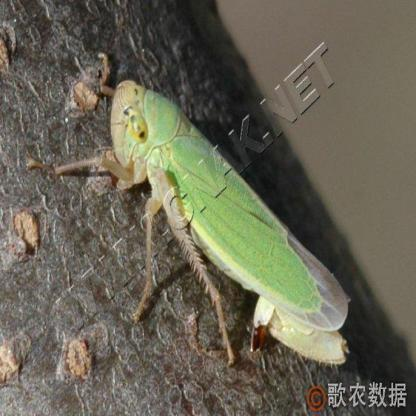Green-Leafhopper: (57, 57, 352, 359)
